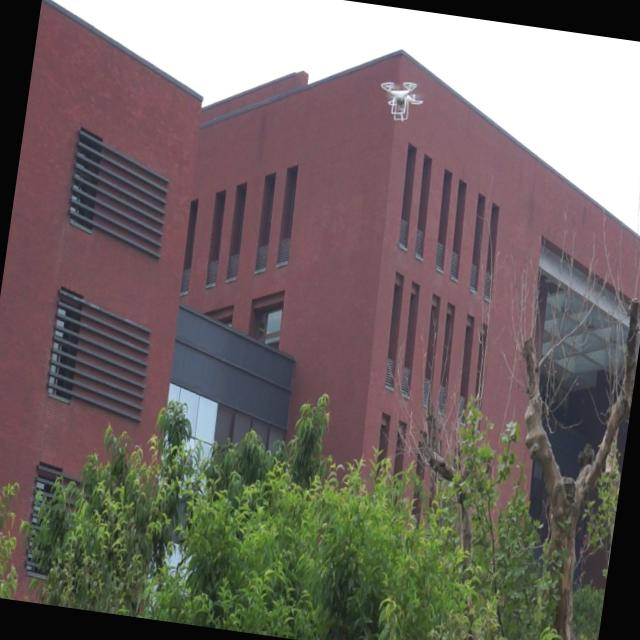drone: (372, 74, 427, 130)
